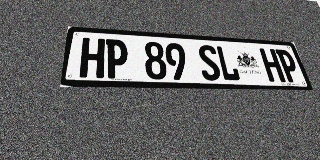8: (144, 41, 167, 80)
9: (164, 42, 189, 80)
H: (79, 37, 105, 78), (259, 48, 286, 82)
L: (215, 46, 241, 81)
P: (105, 39, 128, 79), (275, 49, 302, 82)
S: (197, 44, 222, 81)
